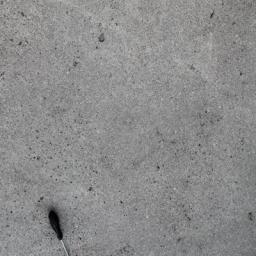FOD: (47, 209, 76, 256)
